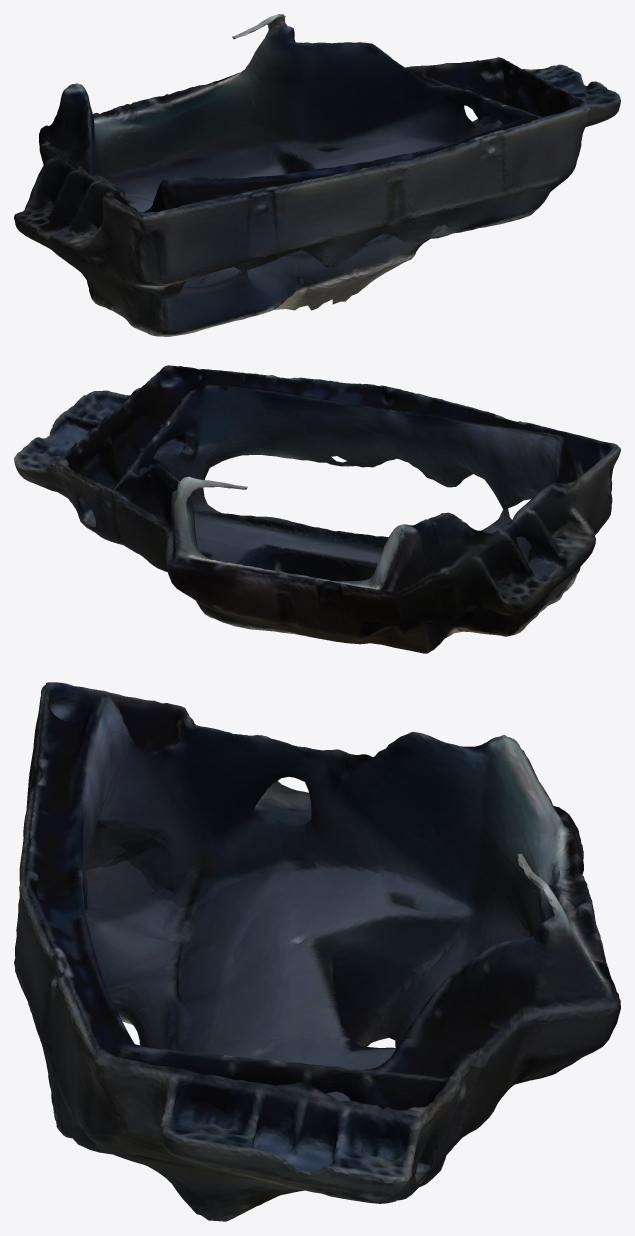
3 renders of one model, top to bottom at view 1: azimuth 30°, elevation 25°; view 2: azimuth 150°, elevation 25°; view 3: azimuth 270°, elevation 25°, orthographic. The views are drawn at different scales.
Bounding box in the file's own units: 429 × 140 × 261.
Materials: 1 (1 with a texture image).
